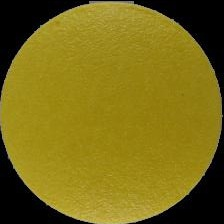63629-1841: (0, 0, 224, 224)
